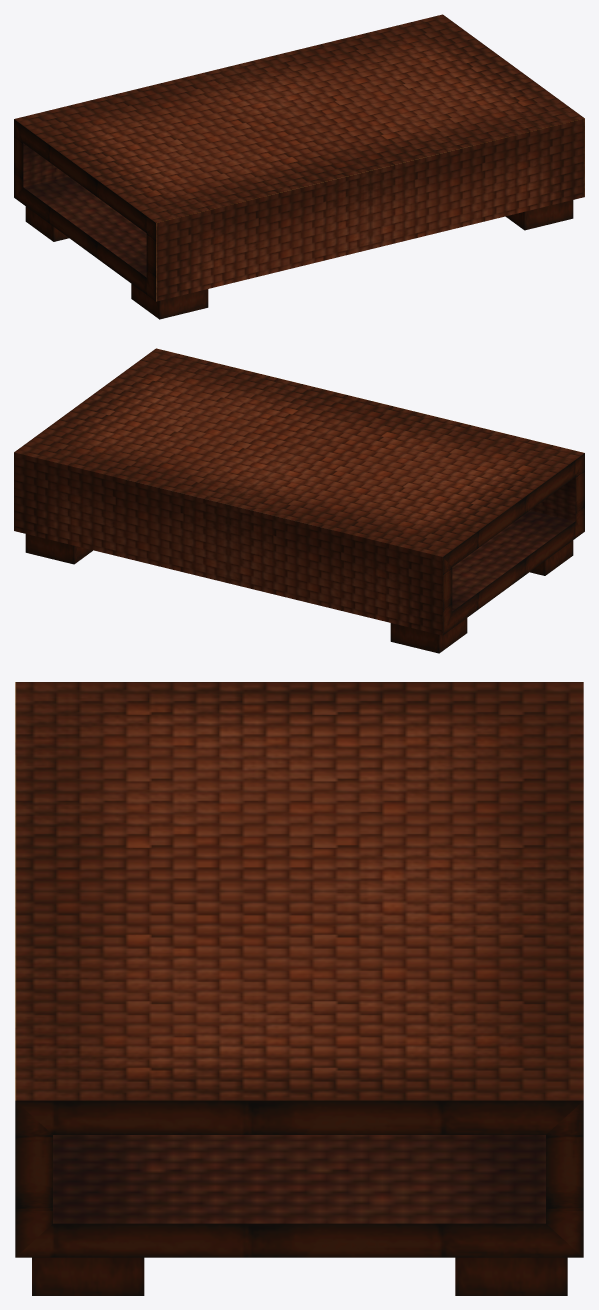
The model's file is ETC0610028.fbx.
3 renders of one model, top to bottom at view 1: azimuth 30°, elevation 25°; view 2: azimuth 150°, elevation 25°; view 3: azimuth 270°, elevation 25°, orthographic. The views are drawn at different scales.
Parts seen in each view (by area): view 1: smETC0610028; view 2: smETC0610028; view 3: smETC0610028.
Boxes of the visible parts, x1,y1,x2,y2 form: smETC0610028: [14, 14, 584, 319]; smETC0610028: [14, 348, 584, 653]; smETC0610028: [15, 682, 583, 1295].
Bounding box in the file's own units: 239 × 54 × 137.
1 material, 1 textured.
